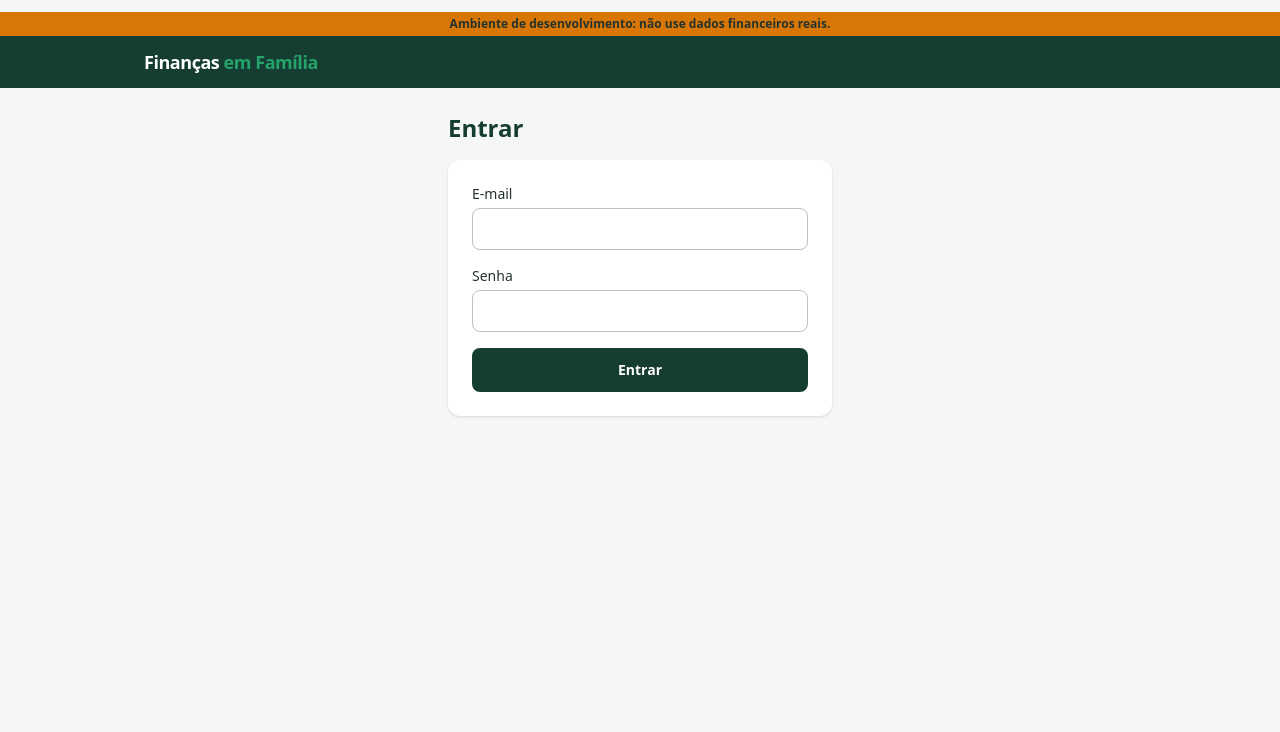
navegação e autenticação › mostra erro amigável para credenciais inválidas
Type "pessoa@exemplo.test" into the field labelled "E-mail".
click(640, 229); type("pessoa@exemplo.test")  # box [472,208,808,250]
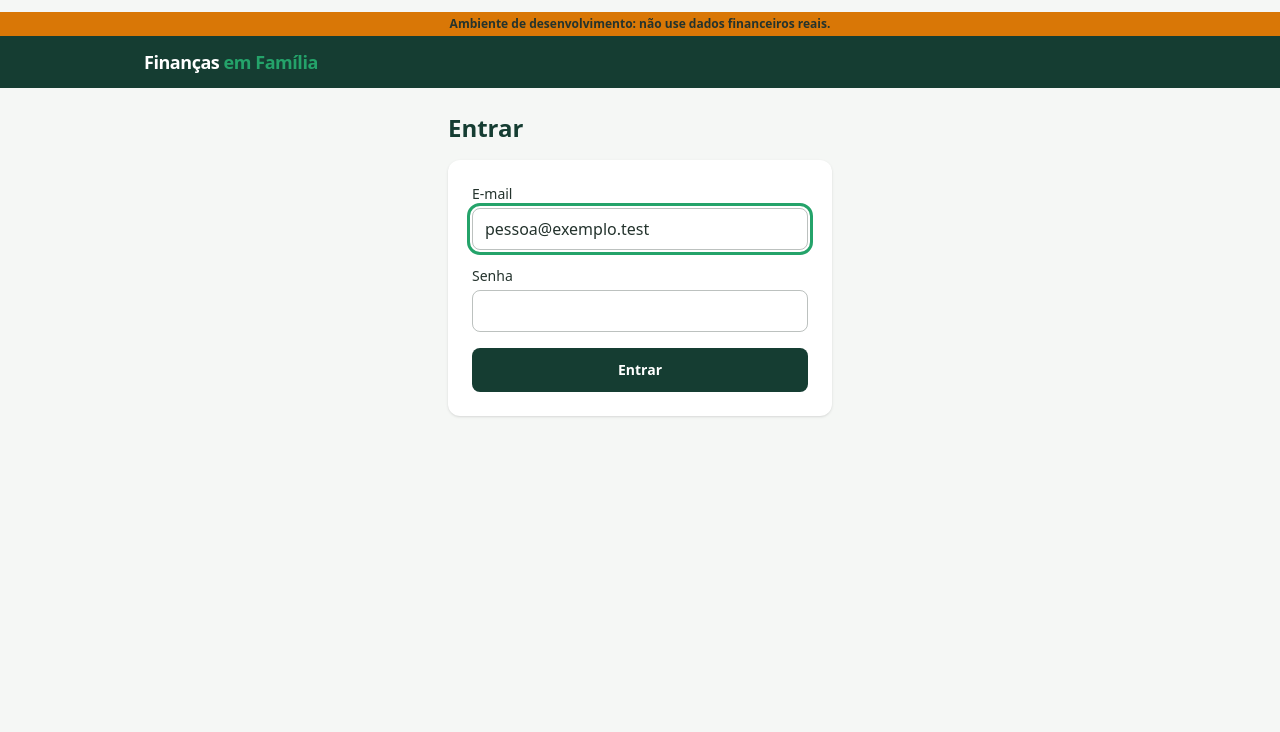
Type "errada" into the password field labelled "Senha".
click(640, 311); type("errada")  # box [472,290,808,332]
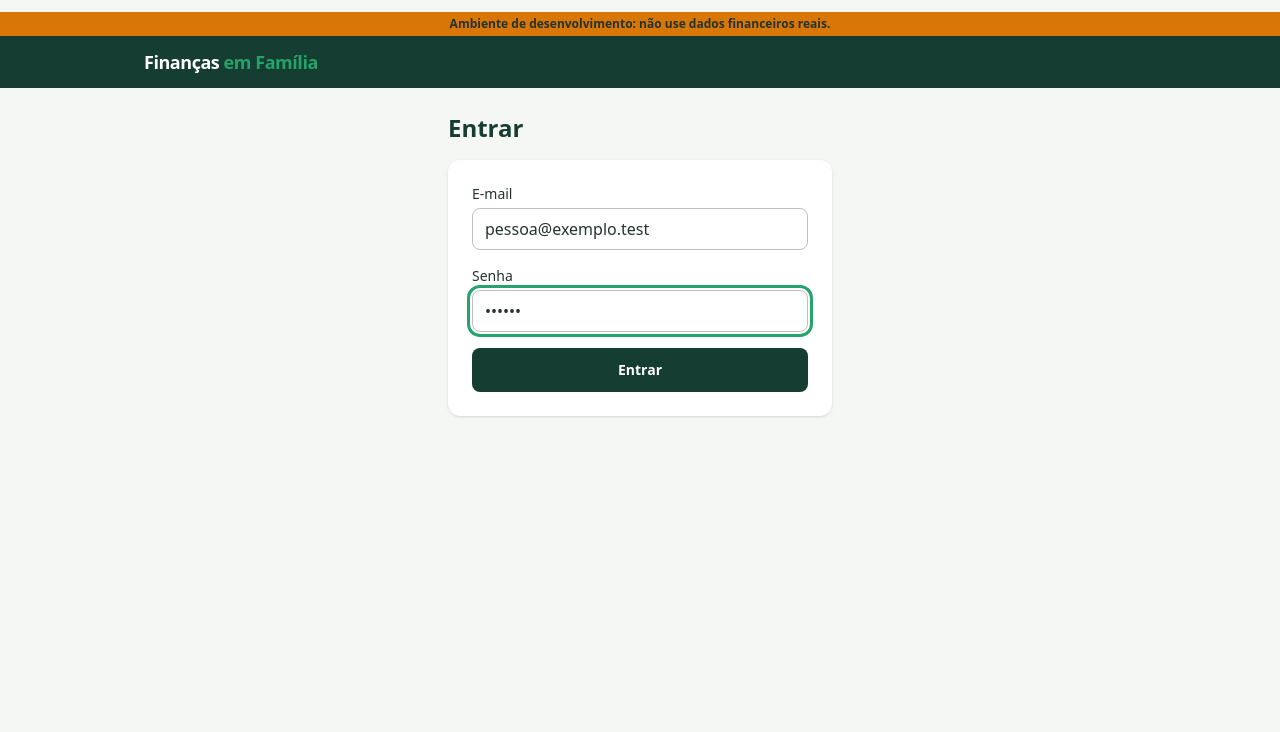
Click the button "Entrar".
click(640, 370)  # box [472,348,808,392]
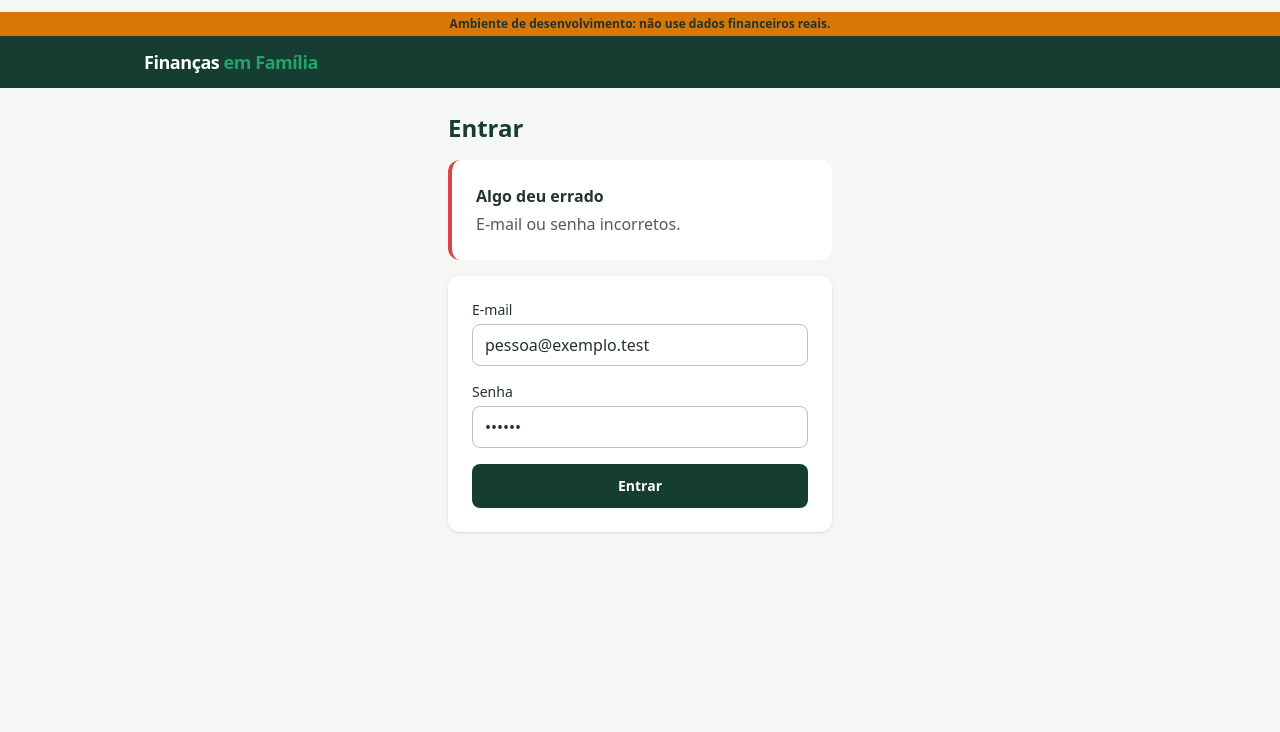
Expected: the message shows "E-mail ou senha incorretos.", [476,213,680,235]
